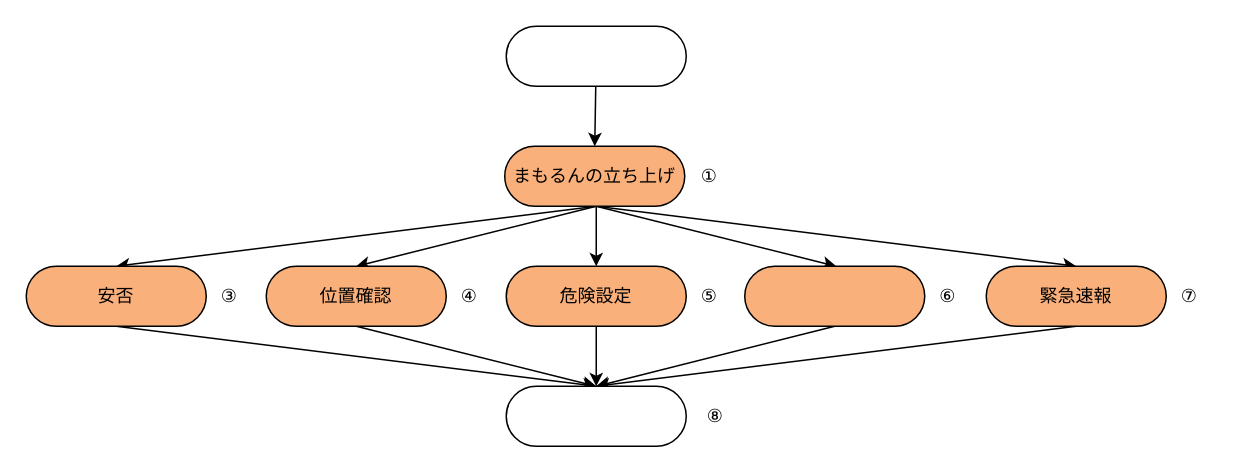
Some shapes in this 1245 by 473 pixel diagram are drawn without their labels. Each missing label, with the centre of its shape:
"アプリの終了" belongs at point (595, 415).
"危険確認" belongs at point (834, 295).
"災害発生" belongs at point (595, 55).
